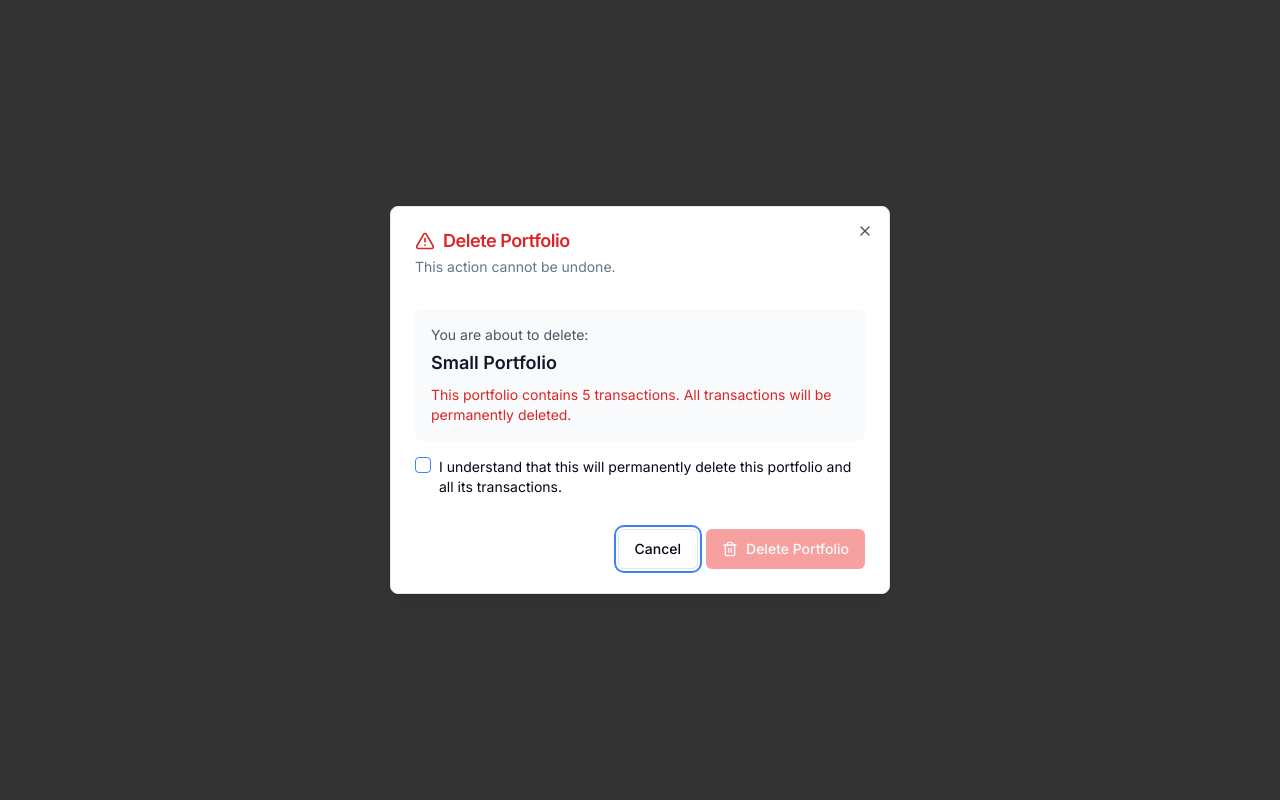
DeletePortfolioDialog › should enable delete after checkbox is checked
Expected: the button "Delete Portfolio" is disabled, [706,529,865,569]
Note: Check the checkbox
Click the checkbox. click: click(423, 465)
box: [415,457,431,473]
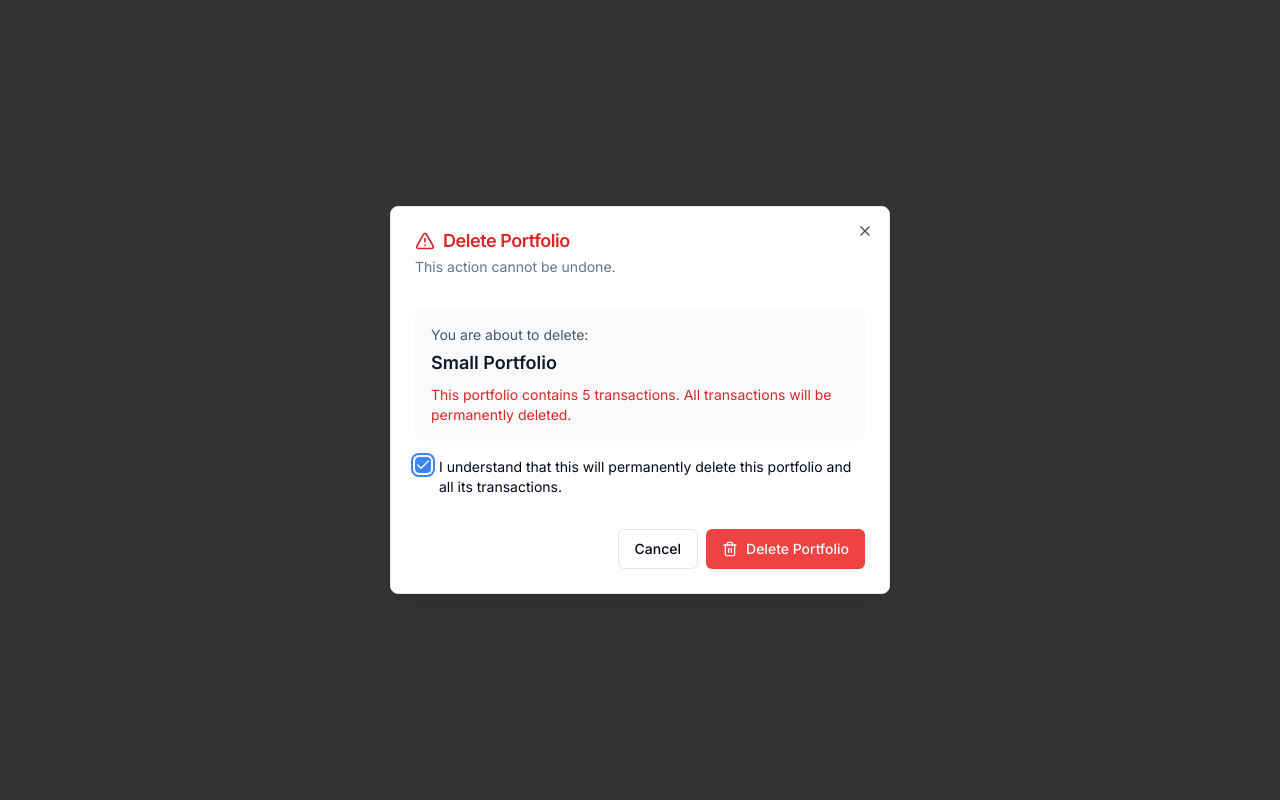
Expected: the button "Delete Portfolio" is enabled, [706,529,865,569]
